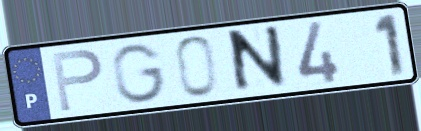0: (171, 32, 224, 101)
1: (371, 10, 409, 79)
4: (294, 17, 343, 88)
G: (109, 41, 169, 106)
N: (228, 22, 290, 98)
P: (49, 47, 106, 115)
